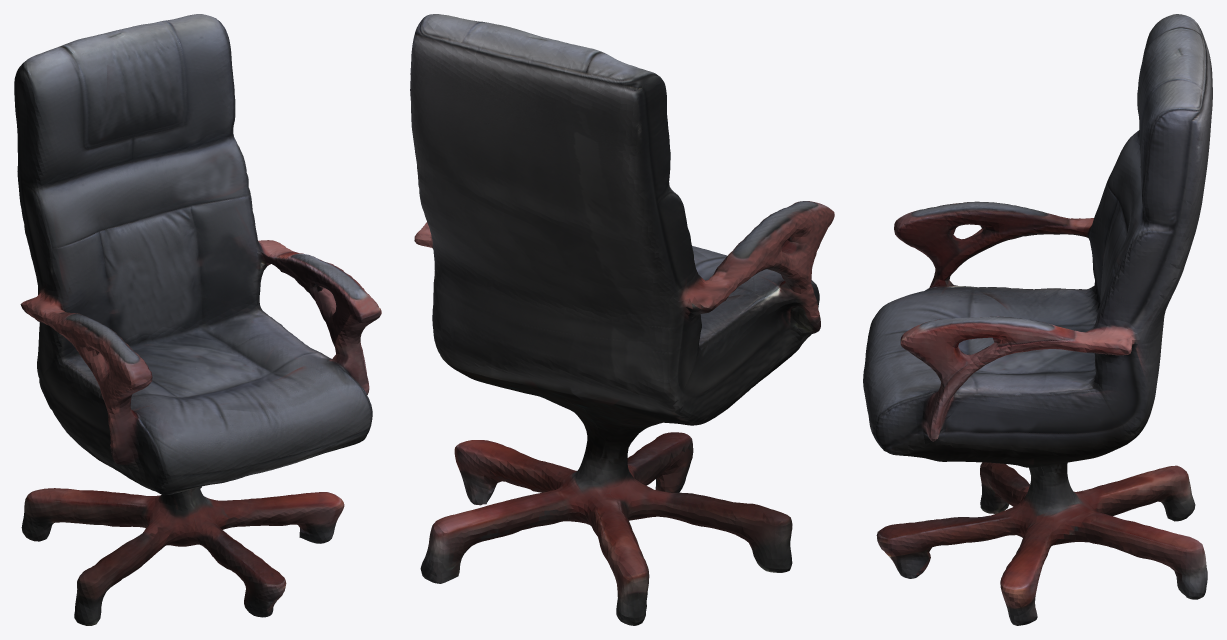
The picture shows the model from 3 angles, left to right: view 1: azimuth 30°, elevation 25°; view 2: azimuth 150°, elevation 25°; view 3: azimuth 270°, elevation 25°; orthographic projection. The views are drawn at different scales.
Parts seen in each view (by area): view 1: geometry_0; view 2: geometry_0; view 3: geometry_0.
Part boxes in pixels (x1,y1,x2,y2): geometry_0: (14,14,381,625); geometry_0: (410,14,834,625); geometry_0: (863,14,1212,625).
Bounding box in the file's own units: 0.5843 × 1 × 0.6091.
Materials: 1 (1 with a texture image).
